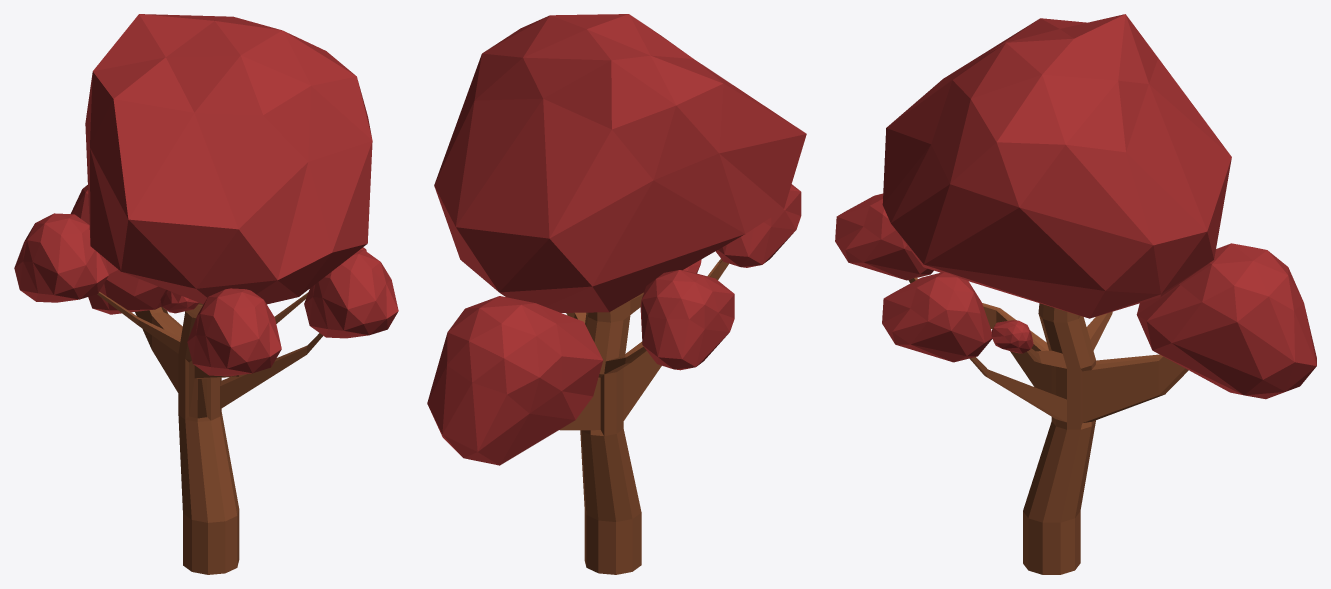
Rendered from red_var2.fbx.
3 views of the same model, side by side, from view 1: azimuth 30°, elevation 25°; view 2: azimuth 150°, elevation 25°; view 3: azimuth 270°, elevation 25° (orthographic).
Parts seen in each view (by area): view 1: Icosphere.059, Cylinder.011, Icosphere.062, Icosphere.061, Icosphere.063, Icosphere.060, Icosphere.064; view 2: Icosphere.059, Icosphere.060, Cylinder.011, Icosphere.061, Icosphere.062; view 3: Icosphere.059, Cylinder.011, Icosphere.060, Icosphere.063, Icosphere.062, Icosphere.065.
Part boxes in pixels (x1,y1,x2,y2): Icosphere.059: [85, 14, 372, 304]; Cylinder.011: [97, 291, 322, 574]; Icosphere.062: [187, 288, 281, 376]; Icosphere.061: [14, 213, 108, 302]; Icosphere.063: [304, 250, 398, 338]; Icosphere.060: [70, 185, 165, 314]; Icosphere.064: [160, 289, 198, 313]; Icosphere.059: [434, 14, 806, 312]; Icosphere.060: [427, 296, 603, 465]; Cylinder.011: [559, 259, 728, 574]; Icosphere.061: [640, 270, 734, 370]; Icosphere.062: [715, 184, 801, 267]; Icosphere.059: [882, 14, 1231, 318]; Cylinder.011: [908, 277, 1188, 574]; Icosphere.060: [1136, 243, 1316, 399]; Icosphere.063: [882, 272, 992, 362]; Icosphere.062: [835, 193, 933, 280]; Icosphere.065: [991, 320, 1033, 353].
Size of the model in its own units: 1145 by 2037 by 1672.
2 materials, 2 textured.
